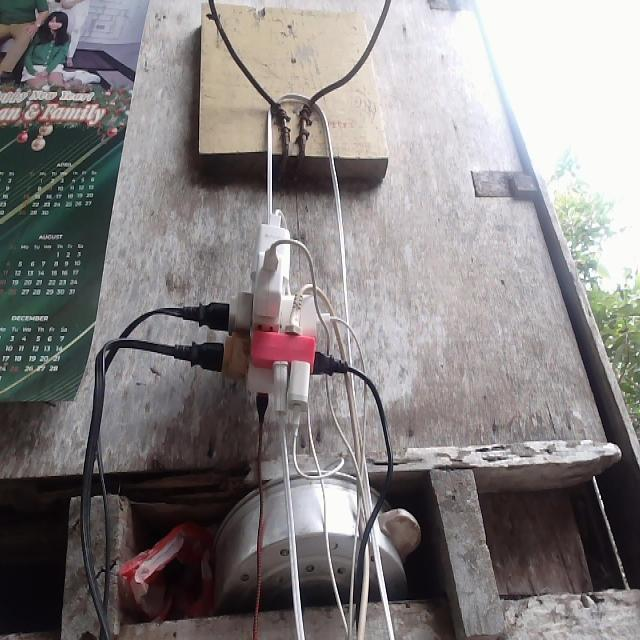-: (178, 213, 348, 430)
